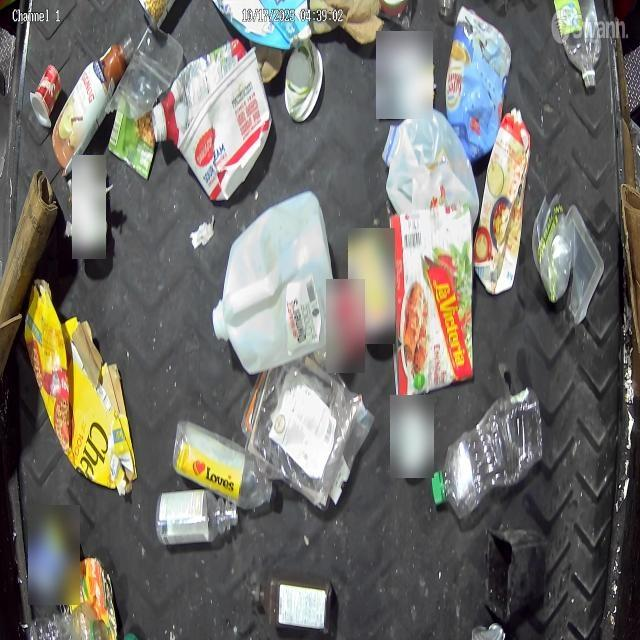milk_jug: (212, 191, 336, 373), (386, 106, 481, 219)
non_white_jug: (474, 107, 532, 297)
plastic_bottle: (437, 388, 542, 518), (172, 419, 278, 512), (154, 488, 238, 546), (557, 1, 603, 88)
